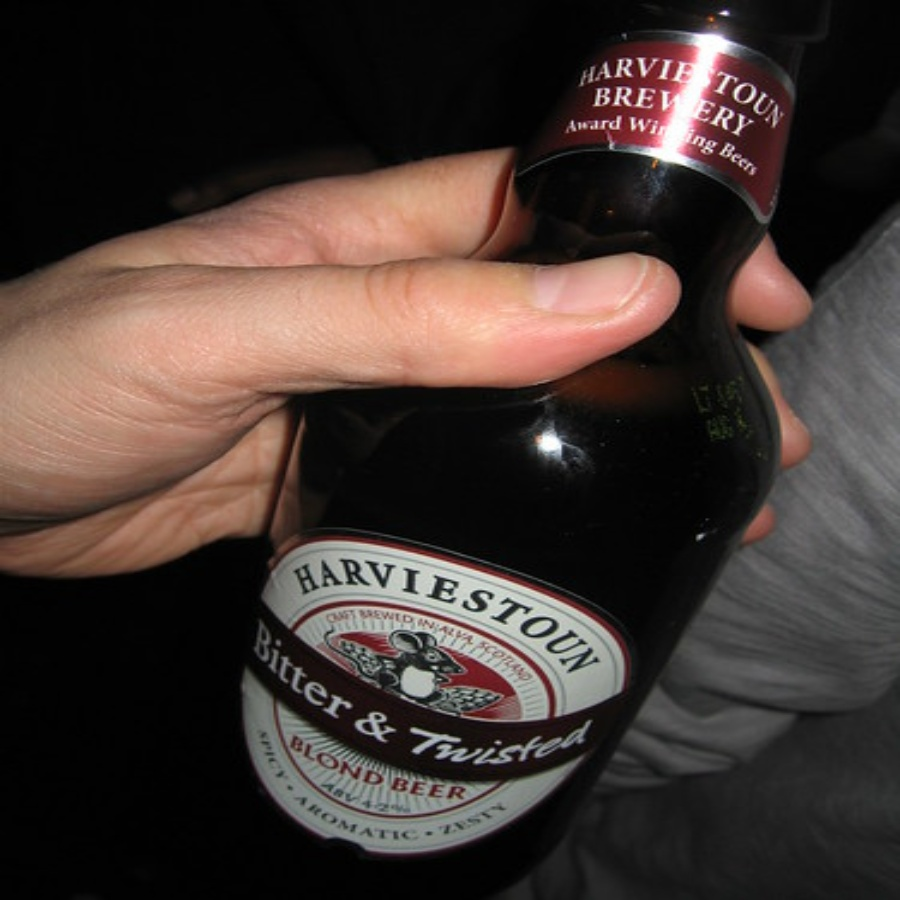beer: (280, 11, 733, 874)
